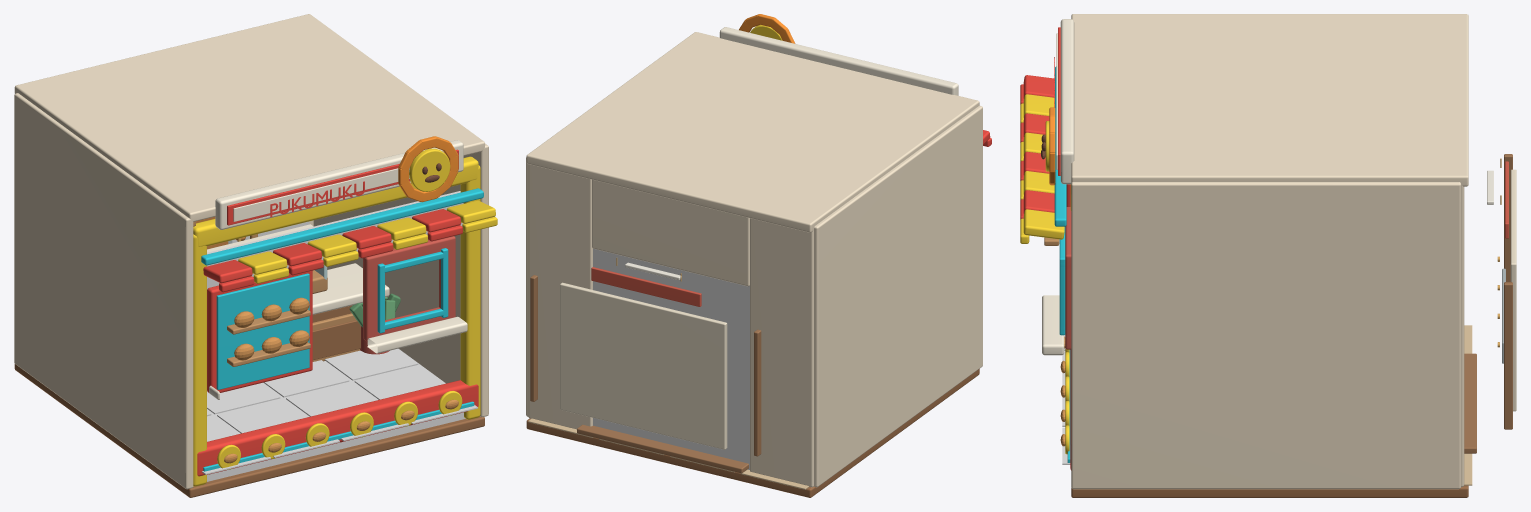
File: pukumuku_blender_shop.glb
The picture shows the model from 3 angles, left to right: view 1: azimuth 30°, elevation 25°; view 2: azimuth 150°, elevation 25°; view 3: azimuth 270°, elevation 25°; orthographic projection. The views are drawn at different scales.
Parts seen in each view (by area): view 1: Warm plaster Group, Pukumuku sunshine yellow Group, Pukumuku tomato red Group, Pukumuku turquoise Group, Counter ivory Group, Honey oak Group, Pukumuku red Group, Storefront Grounding Slab, Toasted bread Group, Oak edge Group, Front tile 3_2, Pukumuku orange Group (+7 smaller); view 2: Warm plaster Group, Bespoke prep room / sealed warm wall, Kitchen rear wall, Honey oak Group, Counter ivory Group, Pale terracotta floor, Upper sign enamel, Wall oak corner stile, Wall oak corner stile.001, Floor tile Group, Pukumuku orange Group; view 3: Warm plaster Group, Counter ivory Group, Pukumuku sunshine yellow Group, Honey oak Group, Pukumuku tomato red Group, Pukumuku turquoise Group, Wall oak corner stile.001, Pale terracotta floor, Bespoke prep room / sealed warm wall, Pukumuku red Group, Wall oak corner stile, Floor tile Group (+1 smaller).
Part boxes in pixels (left/top/right/bottom): Warm plaster Group: left=14, top=14, right=488, bottom=489; Pukumuku sunshine yellow Group: left=193, top=148, right=497, bottom=486; Pukumuku tomato red Group: left=197, top=149, right=478, bottom=476; Pukumuku turquoise Group: left=201, top=188, right=483, bottom=471; Counter ivory Group: left=207, top=140, right=467, bottom=399; Honey oak Group: left=14, top=305, right=484, bottom=497; Pukumuku red Group: left=360, top=236, right=455, bottom=354; Storefront Grounding Slab: left=207, top=348, right=465, bottom=481; Toasted bread Group: left=224, top=297, right=458, bottom=463; Oak edge Group: left=193, top=221, right=359, bottom=366; Front tile 3_2: left=325, top=348, right=418, bottom=380; Pukumuku orange Group: left=398, top=136, right=458, bottom=202; Warm plaster Group: left=526, top=32, right=982, bottom=487; Bespoke prep room / sealed warm wall: left=560, top=282, right=727, bottom=449; Kitchen rear wall: left=593, top=248, right=749, bottom=469; Honey oak Group: left=526, top=369, right=979, bottom=497; Counter ivory Group: left=719, top=27, right=958, bottom=95; Pale terracotta floor: left=577, top=424, right=748, bottom=473; Upper sign enamel: left=591, top=267, right=701, bottom=306; Wall oak corner stile: left=754, top=329, right=761, bottom=456; Wall oak corner stile.001: left=530, top=275, right=537, bottom=401; Floor tile Group: left=528, top=418, right=809, bottom=489; Pukumuku orange Group: left=739, top=14, right=795, bottom=43; Warm plaster Group: left=1071, top=14, right=1468, bottom=489; Counter ivory Group: left=1042, top=19, right=1074, bottom=355; Pukumuku sunshine yellow Group: left=1020, top=94, right=1071, bottom=454; Honey oak Group: left=1071, top=485, right=1468, bottom=497; Pukumuku tomato red Group: left=1020, top=27, right=1071, bottom=470; Pukumuku turquoise Group: left=1054, top=66, right=1070, bottom=462; Wall oak corner stile.001: left=1504, top=282, right=1512, bottom=429; Pale terracotta floor: left=1464, top=353, right=1476, bottom=453; Bespoke prep room / sealed warm wall: left=1510, top=169, right=1516, bottom=411; Pukumuku red Group: left=1065, top=207, right=1071, bottom=349; Wall oak corner stile: left=1504, top=154, right=1512, bottom=281; Floor tile Group: left=1464, top=325, right=1472, bottom=485.
Bounding box in the file's own units: 5.28 × 5.16 × 6.62.
